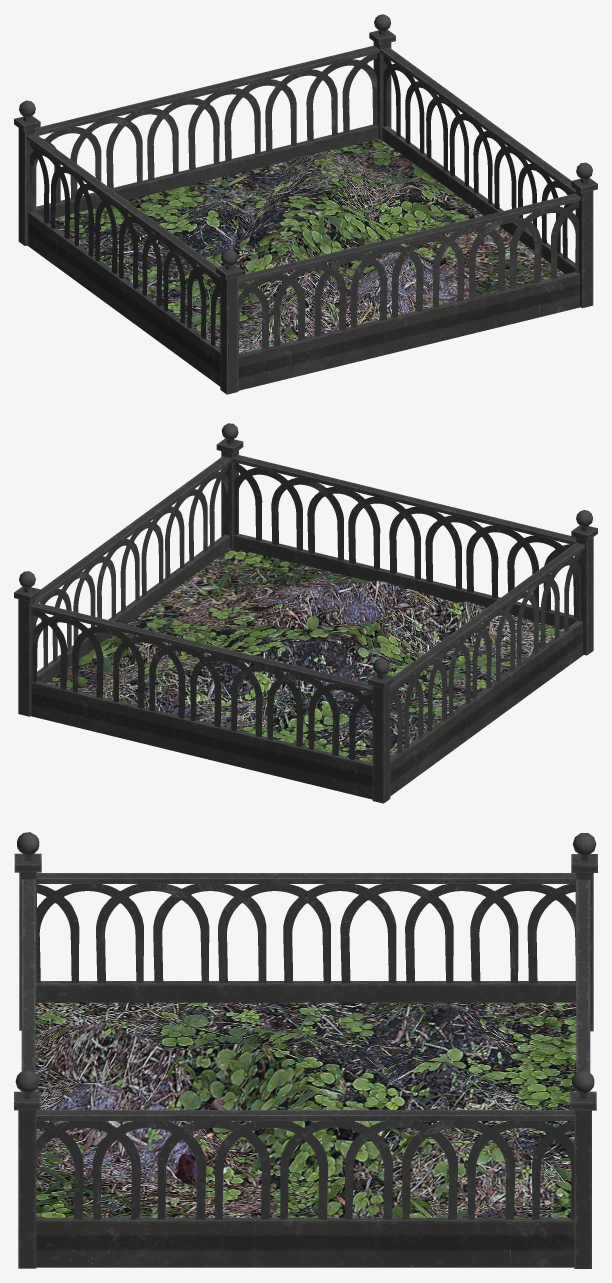
The model's file is Flowerbed_02.fbx.
3 renders of one model, top to bottom at view 1: azimuth 30°, elevation 25°; view 2: azimuth 150°, elevation 25°; view 3: azimuth 270°, elevation 25°, orthographic. The views are drawn at different scales.
Parts seen in each view (by area): view 1: Flowerbed_02_LOD0; view 2: Flowerbed_02_LOD0; view 3: Flowerbed_02_LOD0.
Part boxes in pixels (left/top/right/bottom): Flowerbed_02_LOD0: left=14, top=14, right=597, bottom=394; Flowerbed_02_LOD0: left=14, top=423, right=597, bottom=803; Flowerbed_02_LOD0: left=14, top=832, right=597, bottom=1268.
Size of what is drawn, in the model's own units: 134 by 48.82 by 132.
